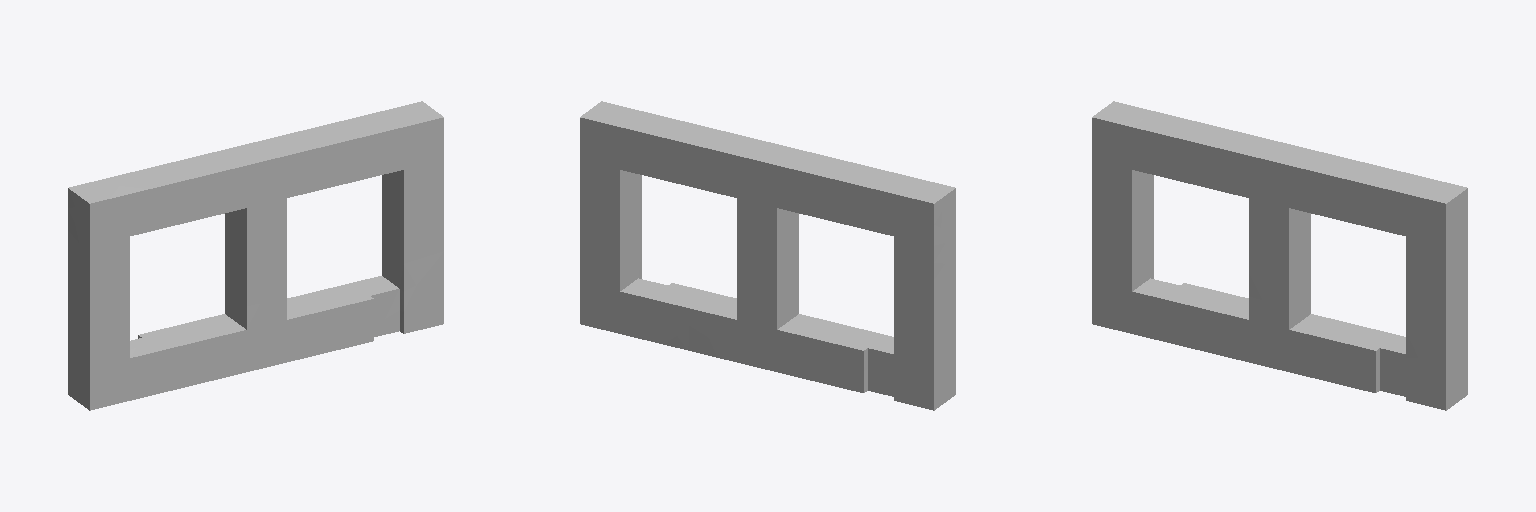
Rendered from dual-g2.dt.tcp.obj.
The picture shows the model from 3 angles: view 1: azimuth 30°, elevation 25°; view 2: azimuth 150°, elevation 25°; view 3: azimuth 330°, elevation 25°; orthographic projection.
Bounding box in the file's own units: 42.72 × 23.8 × 4.57.